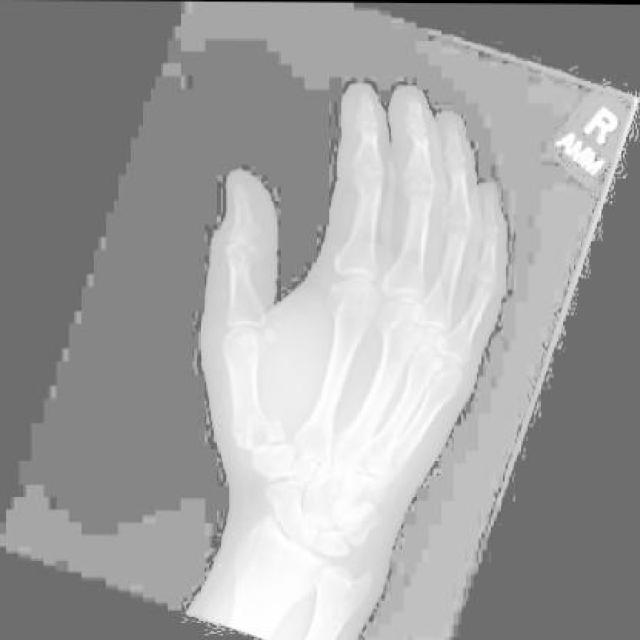Fracture: (230, 399, 299, 461)
